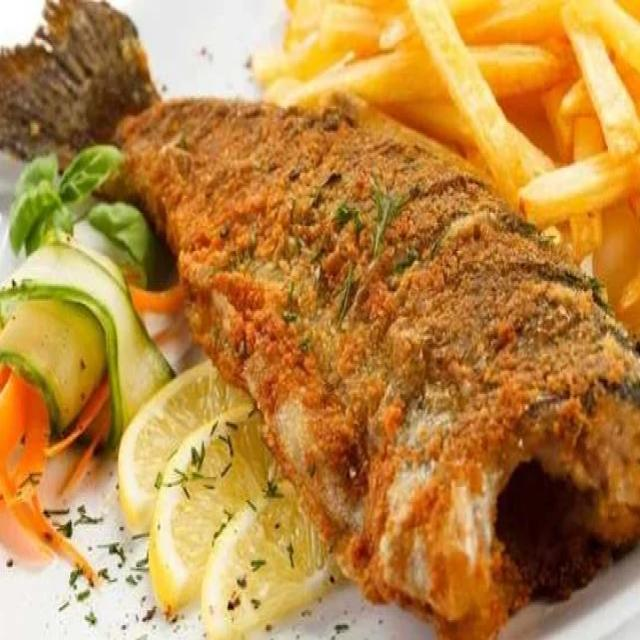Peixe: (105, 88, 638, 637)
